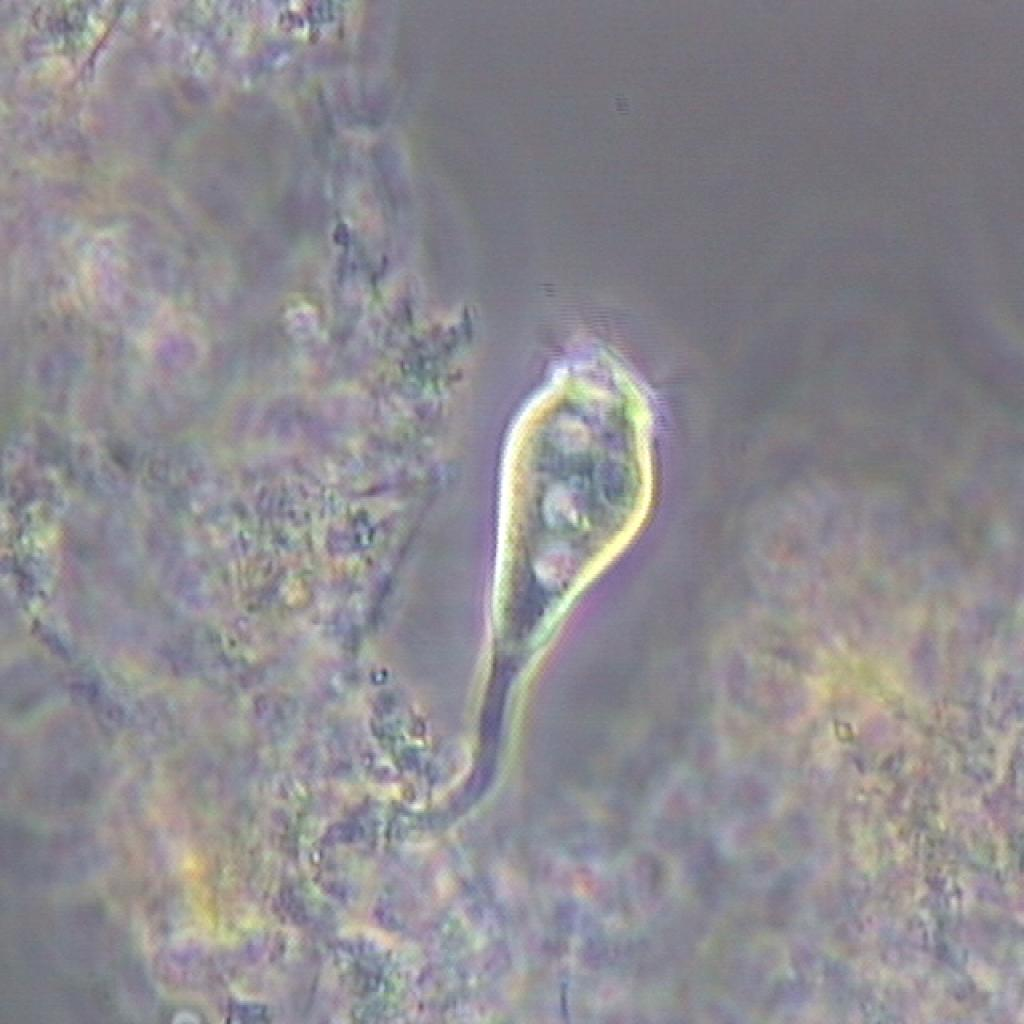Vorticella: (424, 304, 666, 861)
